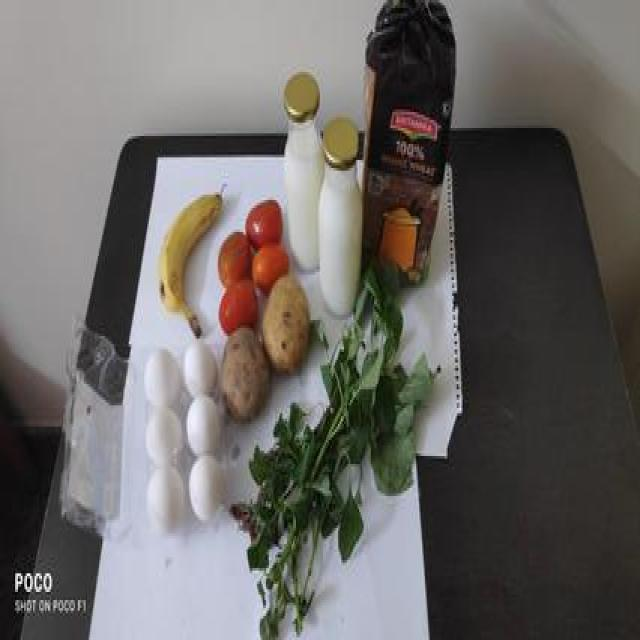Fresh_Spinach: (250, 278, 413, 617)
Fresh_tomato: (215, 227, 251, 282), (219, 282, 257, 333), (251, 242, 287, 290), (247, 200, 280, 250)
